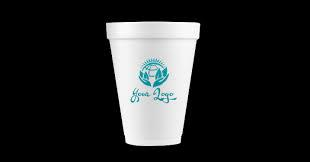Plastic cup: (99, 13, 206, 148)
